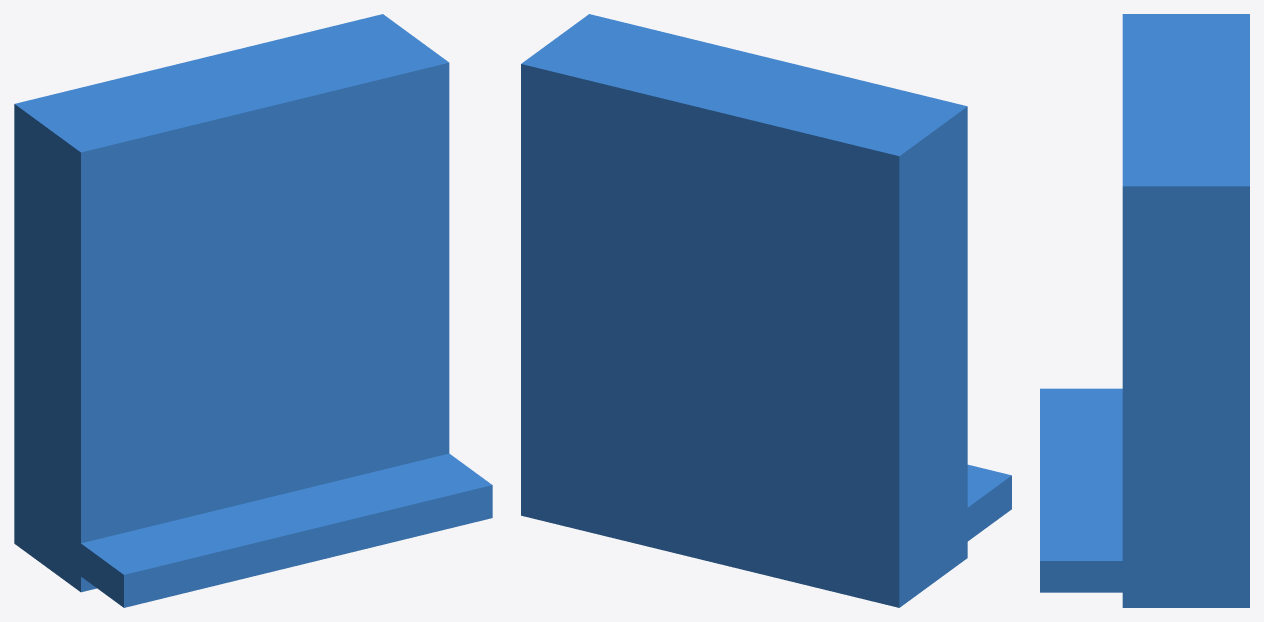
The model's file is Collision_Window_Wide_Flat1.fbx.
The picture shows the model from 3 angles, left to right: view 1: azimuth 30°, elevation 25°; view 2: azimuth 150°, elevation 25°; view 3: azimuth 270°, elevation 25°; orthographic projection. The views are drawn at different scales.
Parts seen in each view (by area): view 1: UCX_Window_Wide_Flat1_1; view 2: UCX_Window_Wide_Flat1_1; view 3: UCX_Window_Wide_Flat1_1.
Boxes of the visible parts, x1=… form: UCX_Window_Wide_Flat1_1: x1=14, y1=14, x2=492, y2=607; UCX_Window_Wide_Flat1_1: x1=521, y1=14, x2=1011, y2=607; UCX_Window_Wide_Flat1_1: x1=1040, y1=14, x2=1249, y2=607.
Bounding box in the file's own units: 143 × 163 × 73.6.
